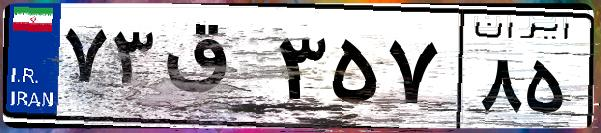3: (270, 28, 330, 110), (110, 28, 158, 98)
5: (330, 28, 385, 110), (525, 38, 570, 115)
7: (385, 28, 445, 110), (57, 26, 110, 100)
8: (475, 38, 525, 113)
ق: (158, 20, 270, 120)
